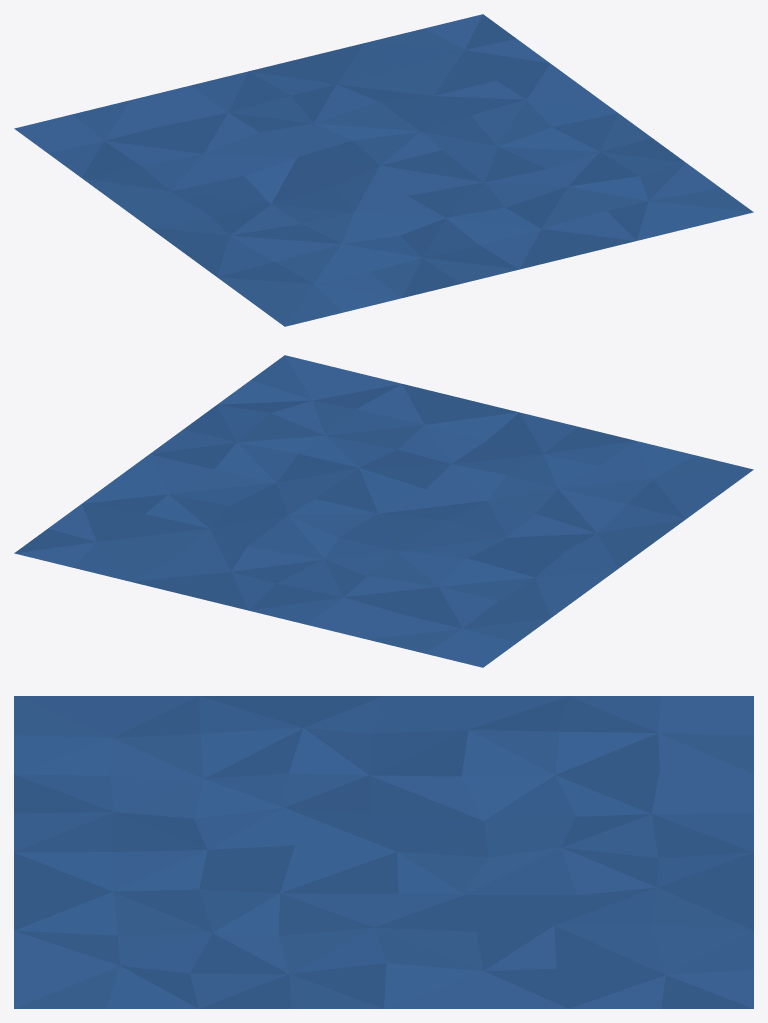
Rendered from ground_shallow_water_a.glb.
The picture shows the model from 3 angles, top to bottom: view 1: azimuth 30°, elevation 25°; view 2: azimuth 150°, elevation 25°; view 3: azimuth 270°, elevation 25°; orthographic projection. The views are drawn at different scales.
Parts seen in each view (by area): view 1: ground_shallow_water_a; view 2: ground_shallow_water_a; view 3: ground_shallow_water_a.
Boxes of the visible parts, left/top/right/bottom form: ground_shallow_water_a: left=14, top=14, right=753, bottom=326; ground_shallow_water_a: left=14, top=355, right=753, bottom=667; ground_shallow_water_a: left=14, top=696, right=753, bottom=1008.
Bounding box in the file's own units: 4 × 0.0222 × 4.
